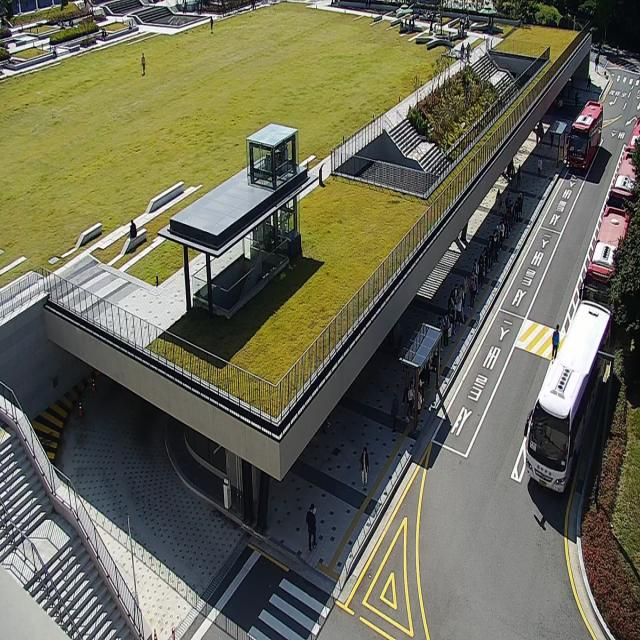queue: (415, 189, 524, 426)
